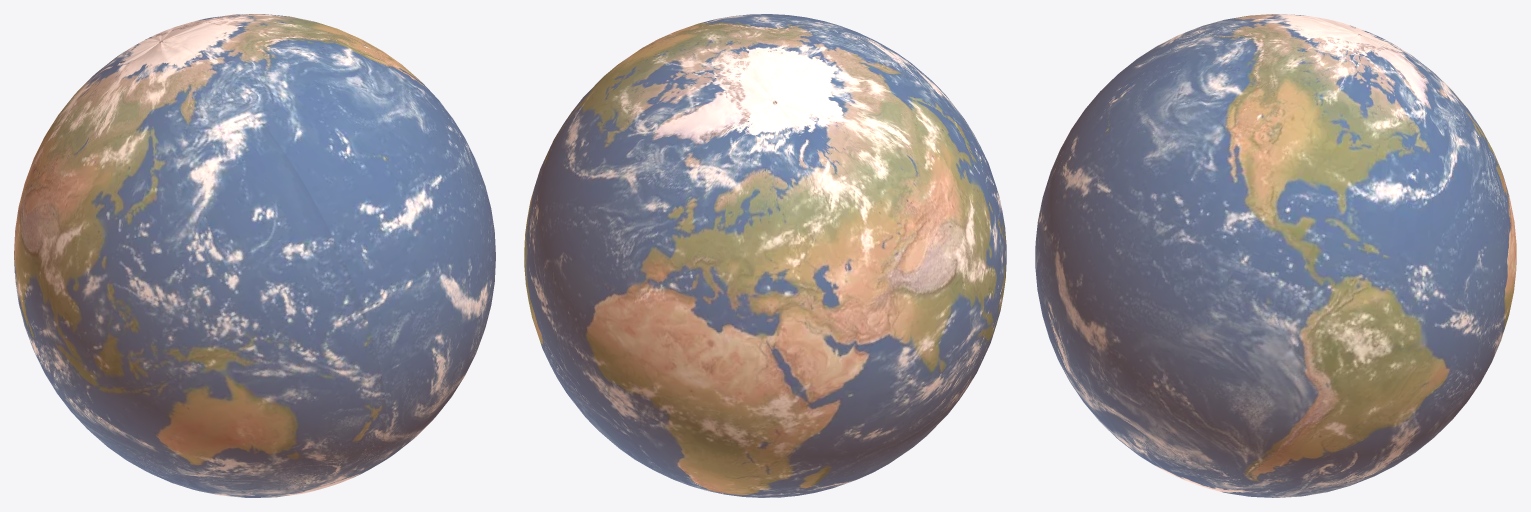
The model's file is earth-transformed.glb.
3 renders of one model, left to right at view 1: azimuth 30°, elevation 25°; view 2: azimuth 150°, elevation 25°; view 3: azimuth 270°, elevation 25°, orthographic.
Parts seen in each view (by area): view 1: Earth; view 2: Earth; view 3: Earth.
Boxes of the visible parts, x1,y1,x2,y2 form: Earth: [14, 14, 495, 497]; Earth: [524, 14, 1006, 497]; Earth: [1035, 14, 1516, 497].
Bounding box in the file's own units: 1.97 × 1.98 × 1.97.
1 material, 1 textured.
